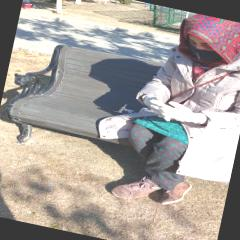gloved: (150, 98, 198, 126), (140, 94, 174, 122)
